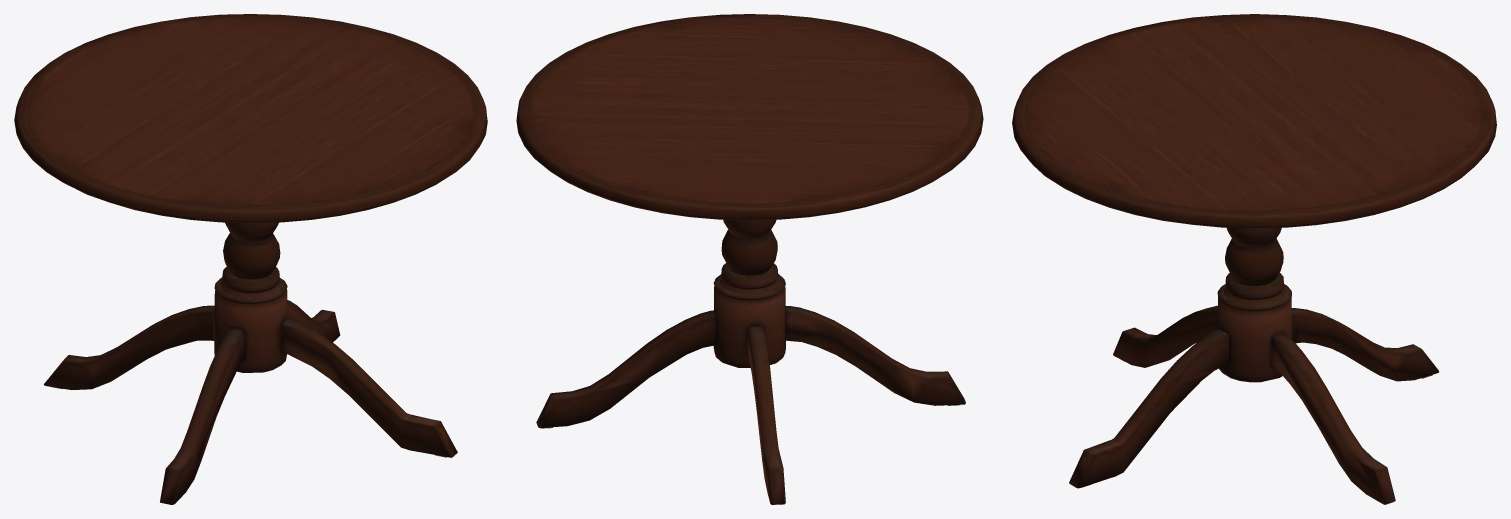
The model's file is ph-round_wooden_table_01.glb.
The picture shows the model from 3 angles, left to right: view 1: azimuth 30°, elevation 25°; view 2: azimuth 150°, elevation 25°; view 3: azimuth 270°, elevation 25°; orthographic projection. The views are drawn at different scales.
Parts seen in each view (by area): view 1: round_wooden_table_01; view 2: round_wooden_table_01; view 3: round_wooden_table_01.
Part boxes in pixels (box(x1,y1,x2,y2)): round_wooden_table_01: box(14, 14, 487, 504); round_wooden_table_01: box(516, 14, 983, 504); round_wooden_table_01: box(1012, 14, 1496, 504).
Size of the model in its own units: 1.4 by 1 by 1.4.
1 material, 1 textured.
